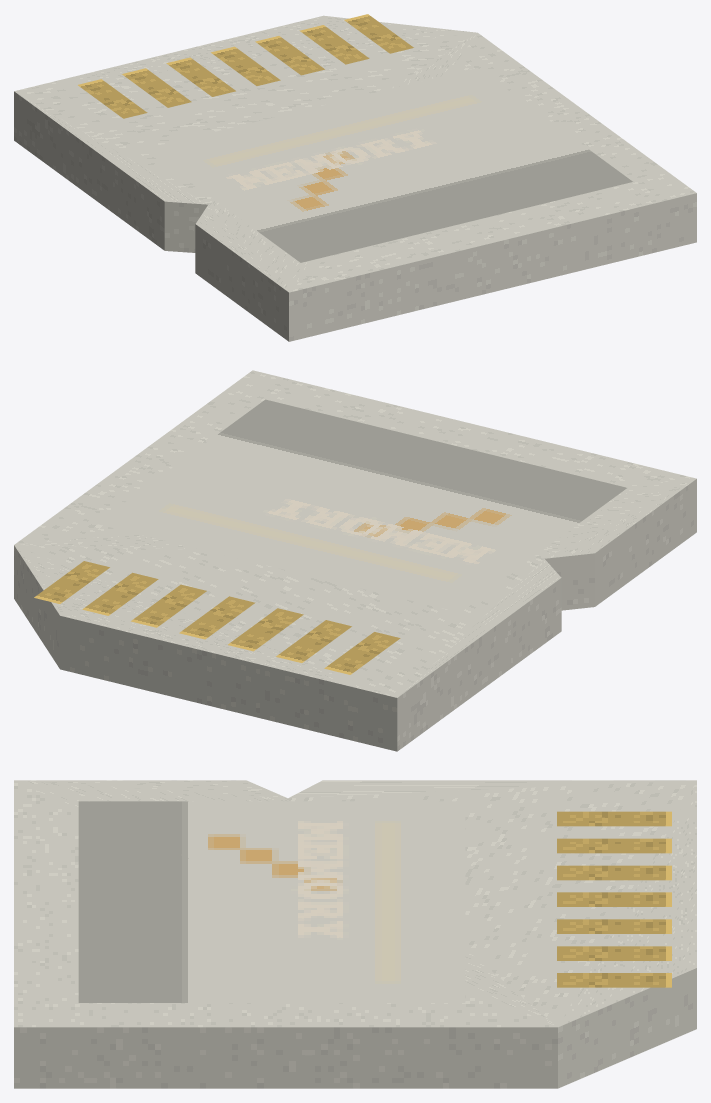
The model's file is memory_card_older.glb.
3 views of the same model, one above another, from view 1: azimuth 30°, elevation 25°; view 2: azimuth 150°, elevation 25°; view 3: azimuth 270°, elevation 25° (orthographic). The views are drawn at different scales.
Parts seen in each view (by area): view 1: block_beveled memory card, block_memory card sticker, block_gold card contact (×7); view 2: block_beveled memory card, block_memory card sticker, block_gold card contact (×7); view 3: block_beveled memory card, block_memory card sticker, block_gold card contact (×7).
Part boxes in pixels (box(x1,y1,x2,y2)): block_beveled memory card: box(14, 15, 696, 341); block_memory card sticker: box(145, 68, 632, 262); block_gold card contact (×7): box(78, 14, 413, 118); block_beveled memory card: box(14, 370, 696, 751); block_memory card sticker: box(96, 399, 626, 611); block_gold card contact (×7): box(34, 561, 400, 674); block_beveled memory card: box(14, 780, 696, 1088); block_memory card sticker: box(78, 801, 465, 1002); block_gold card contact (×7): box(557, 811, 671, 987).
Bounding box in the file's own units: 0.0274 × 0.00325 × 0.032.
Materials: 1 (1 with a texture image).
